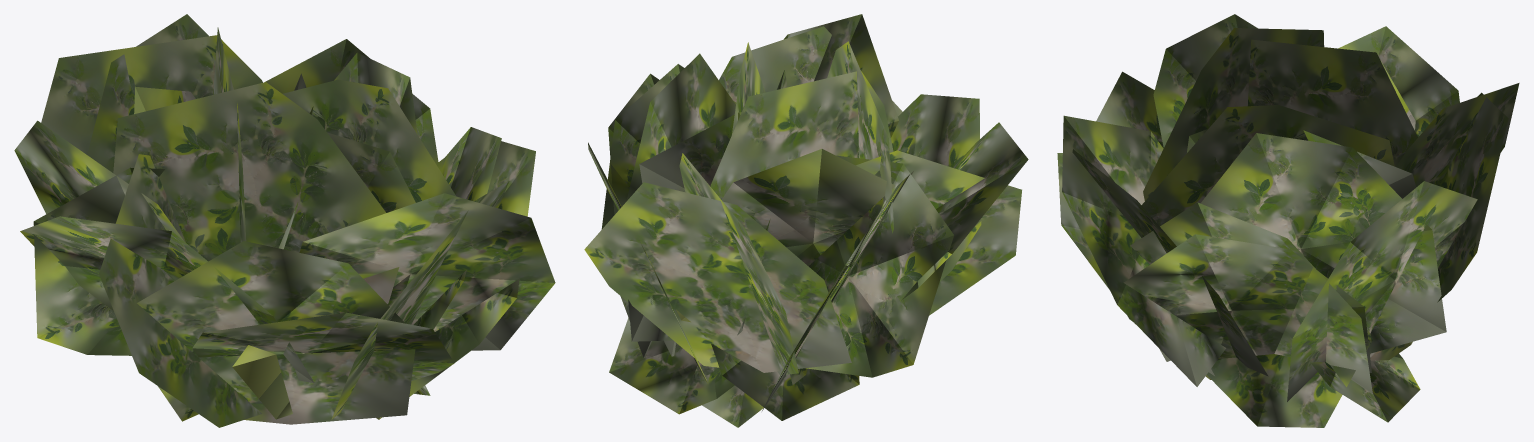
The model's file is QuixelBush_01.FBX.
The picture shows the model from 3 angles, left to right: view 1: azimuth 30°, elevation 25°; view 2: azimuth 150°, elevation 25°; view 3: azimuth 270°, elevation 25°; orthographic projection. The views are drawn at different scales.
Parts seen in each view (by area): view 1: QuixelBush_01; view 2: QuixelBush_01; view 3: QuixelBush_01.
Part boxes in pixels (x1,y1,x2,y2): QuixelBush_01: (14,14,555,427); QuixelBush_01: (584,14,1028,427); QuixelBush_01: (1057,14,1519,427).
Bounding box in the file's own units: 3.42 × 2.77 × 3.43.
